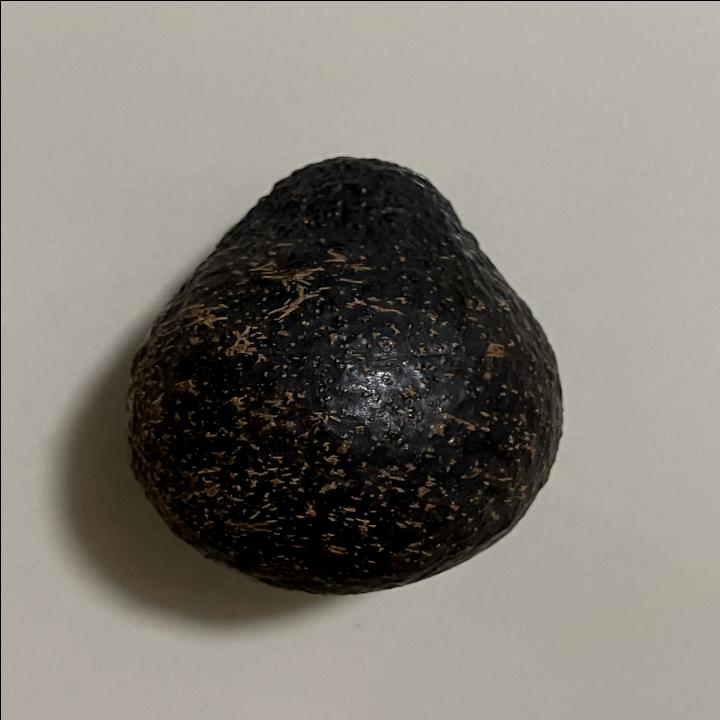Level2: (114, 147, 574, 598)
